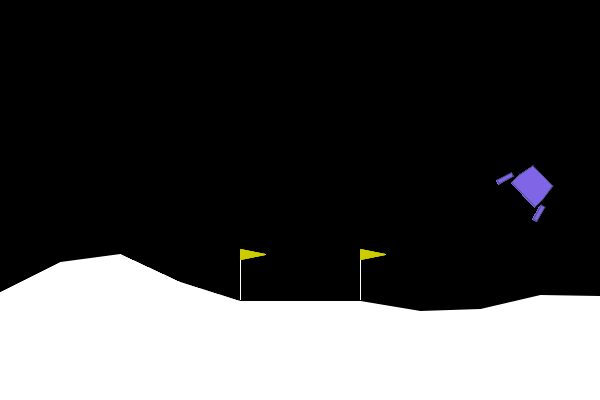lander: (494, 153, 565, 224)
